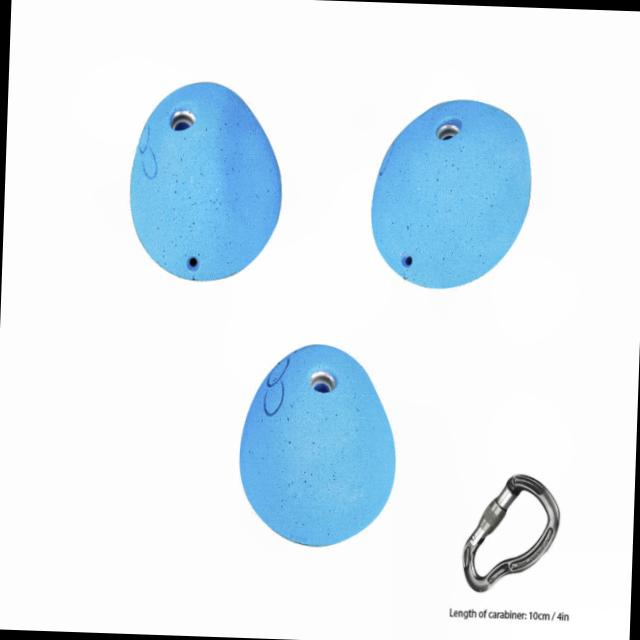Hold: (121, 81, 288, 289), (237, 346, 401, 552), (371, 90, 535, 294)
